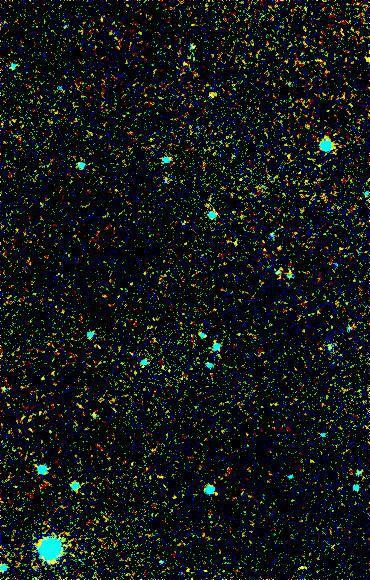star: (198, 82, 228, 112)
